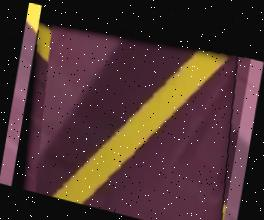scratch: (12, 2, 251, 220)
